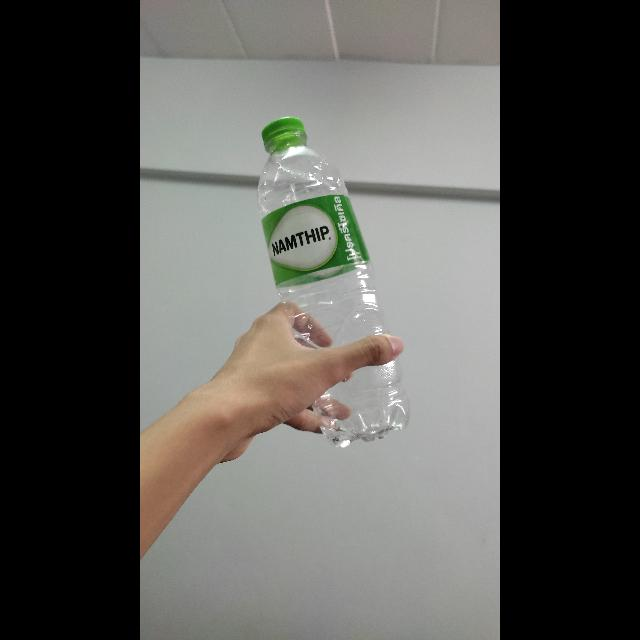plastic_bottle: (244, 112, 413, 450)
plastic_bottle_cap: (259, 114, 307, 152)
